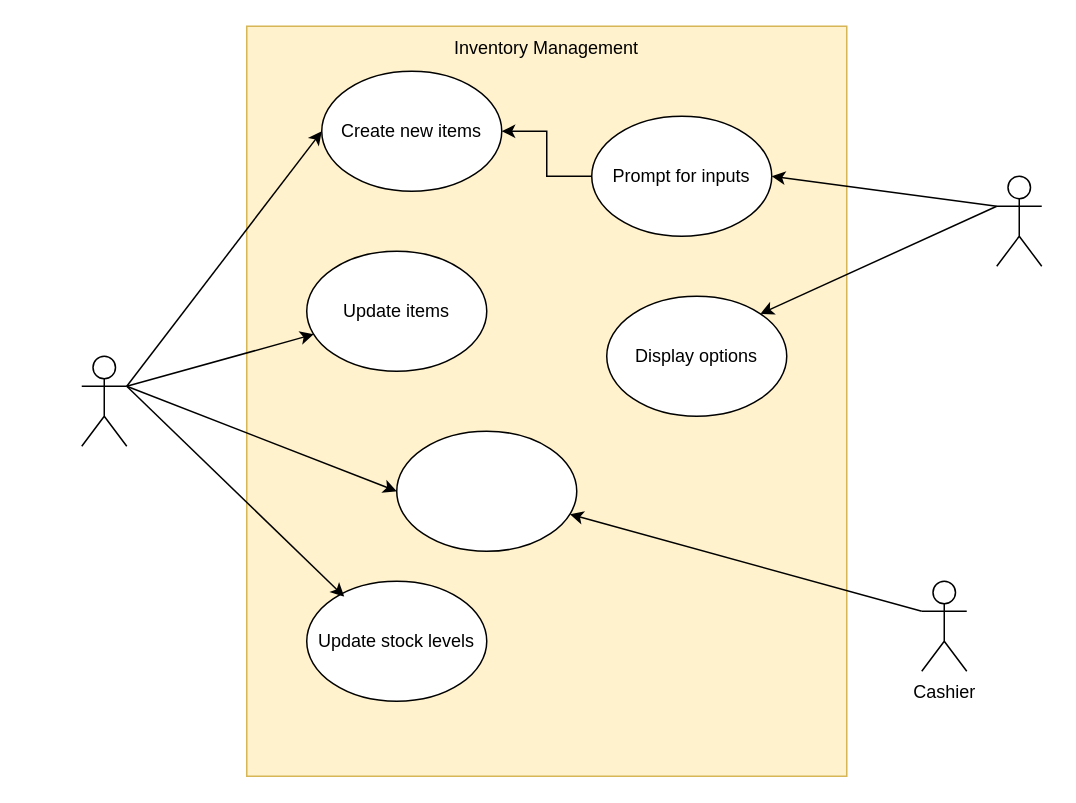
Some shapes in this 1076 by 803 pixel diagram are drawn without their labels. Each missing label, with the centre of its shape:
"Access inventory" belongs at point (486, 490).
"Pharmacy Manager" belongs at point (103, 400).
"System" belongs at point (1018, 220).
